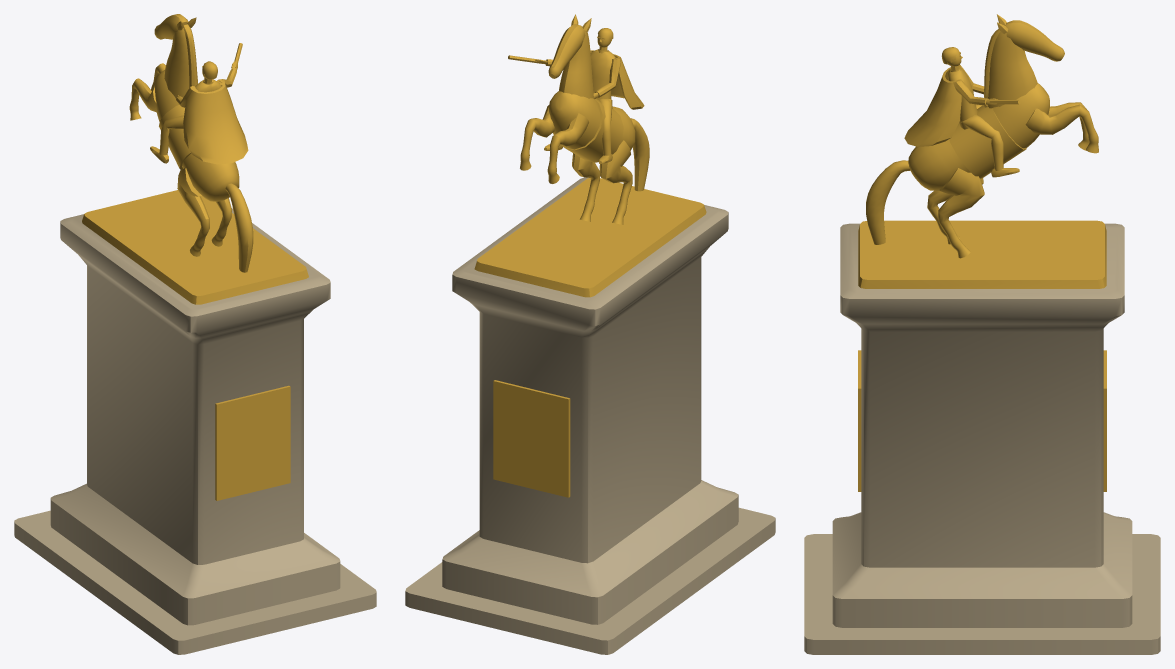
File: mon_reiter_gold.glb
3 views of the same model, side by side, from view 1: azimuth 30°, elevation 25°; view 2: azimuth 150°, elevation 25°; view 3: azimuth 270°, elevation 25° (orthographic). The views are drawn at different scales.
Parts seen in each view (by area): view 1: mon_reiter_gold; view 2: mon_reiter_gold; view 3: mon_reiter_gold.
Boxes of the visible parts, box(x1,y1,x2,y2) form: mon_reiter_gold: box(14, 14, 376, 654); mon_reiter_gold: box(405, 14, 775, 654); mon_reiter_gold: box(804, 14, 1160, 654).
Bounding box in the file's own units: 3.3 × 8.5 × 4.7.
